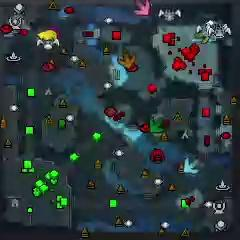p3: (46, 25, 62, 41)
p4: (36, 30, 57, 42)
x1: (135, 0, 150, 16)
x2: (195, 30, 210, 45)
x3: (182, 157, 200, 173)
x4: (149, 116, 165, 134)
x5: (117, 50, 136, 69)
